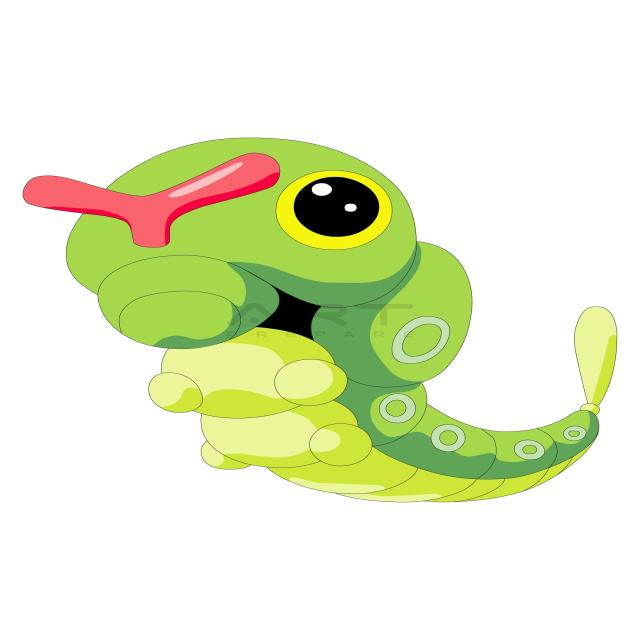Caterpie: (41, 133, 623, 515)
